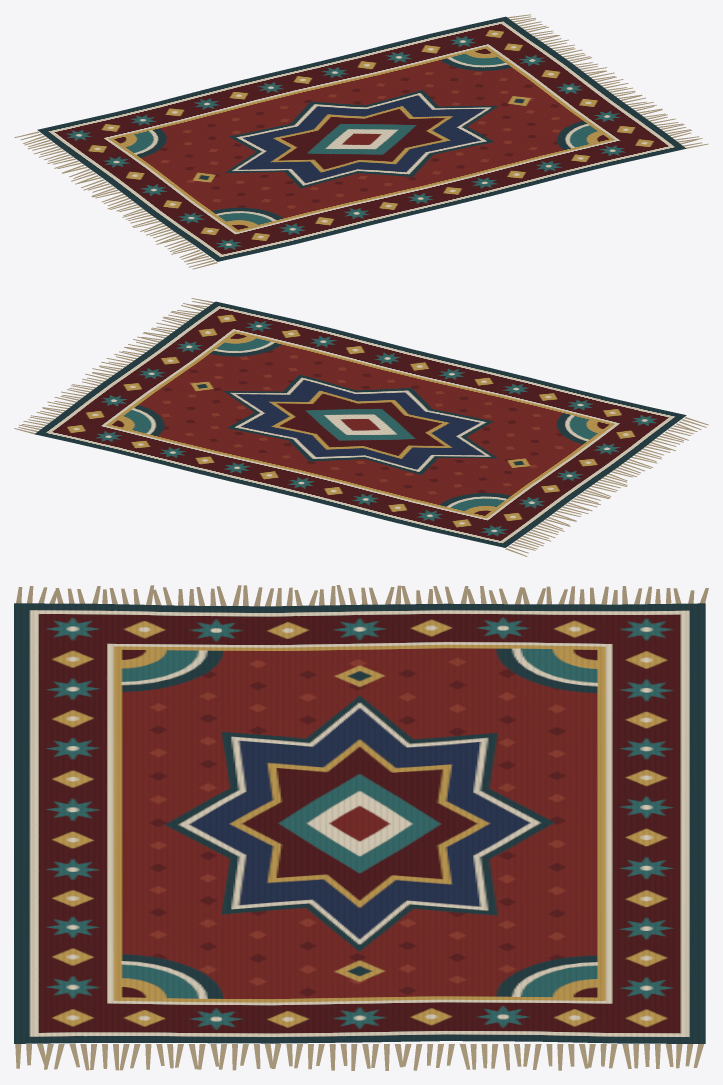
Rendered from prop-carpet-flat.glb.
3 renders of one model, top to bottom at view 1: azimuth 30°, elevation 25°; view 2: azimuth 150°, elevation 25°; view 3: azimuth 270°, elevation 25°, orthographic. The views are drawn at different scales.
Visible parts, largest first — view 1: piece_CarpetRed, piece_Linen; view 2: piece_CarpetRed, piece_Linen; view 3: piece_CarpetRed, piece_Linen.
Part boxes in pixels (left/top/right/bottom): piece_CarpetRed: left=37, top=16, right=685, bottom=261; piece_Linen: left=14, top=14, right=708, bottom=269; piece_CarpetRed: left=34, top=301, right=686, bottom=547; piece_Linen: left=14, top=298, right=708, bottom=556; piece_CarpetRed: left=14, top=603, right=705, bottom=1043; piece_Linen: left=15, top=585, right=708, bottom=1070.
Bounding box in the file's own units: 1.33 × 0.00786 × 0.804.
Materials: 2 (1 with a texture image).
